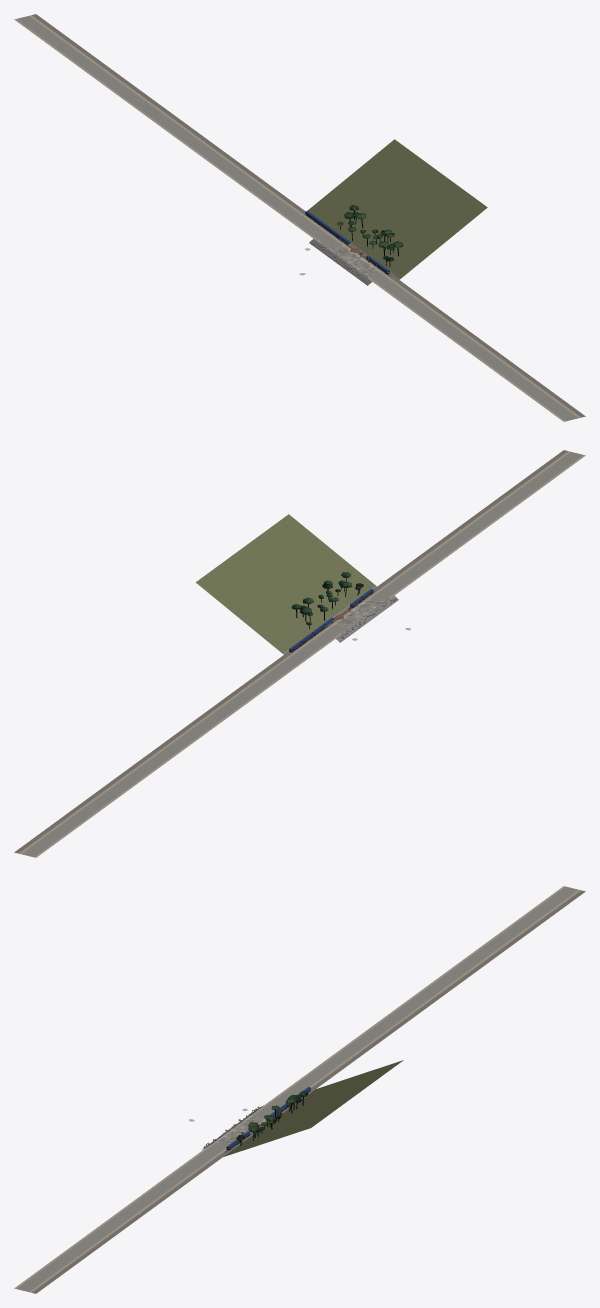
The model's file is lugar-anchorage.glb.
The picture shows the model from 3 angles, top to bottom: view 1: azimuth 30°, elevation 25°; view 2: azimuth 150°, elevation 25°; view 3: azimuth 330°, elevation 25°; orthographic projection.
Parts seen in each view (by area): view 1: luzS-pista, luzG-cerca, vert-cerca; view 2: luzS-pista, luzG-cerca, vert-cerca; view 3: luzG-cerca, luzS-pista, vert-cerca.
Boxes of the visible parts, bbox=[...] form: luzS-pista: bbox=[305, 139, 487, 285]; luzG-cerca: bbox=[14, 14, 585, 421]; vert-cerca: bbox=[299, 205, 403, 277]; luzS-pista: bbox=[196, 514, 398, 654]; luzG-cerca: bbox=[14, 450, 585, 857]; vert-cerca: bbox=[291, 572, 410, 652]; luzG-cerca: bbox=[14, 886, 585, 1293]; luzS-pista: bbox=[202, 1060, 403, 1156]; vert-cerca: bbox=[189, 1091, 309, 1152].
Size of what is drawn, in the model's own units: 183 by 60.7 by 1120.
Materials: 13 (10 with a texture image).
